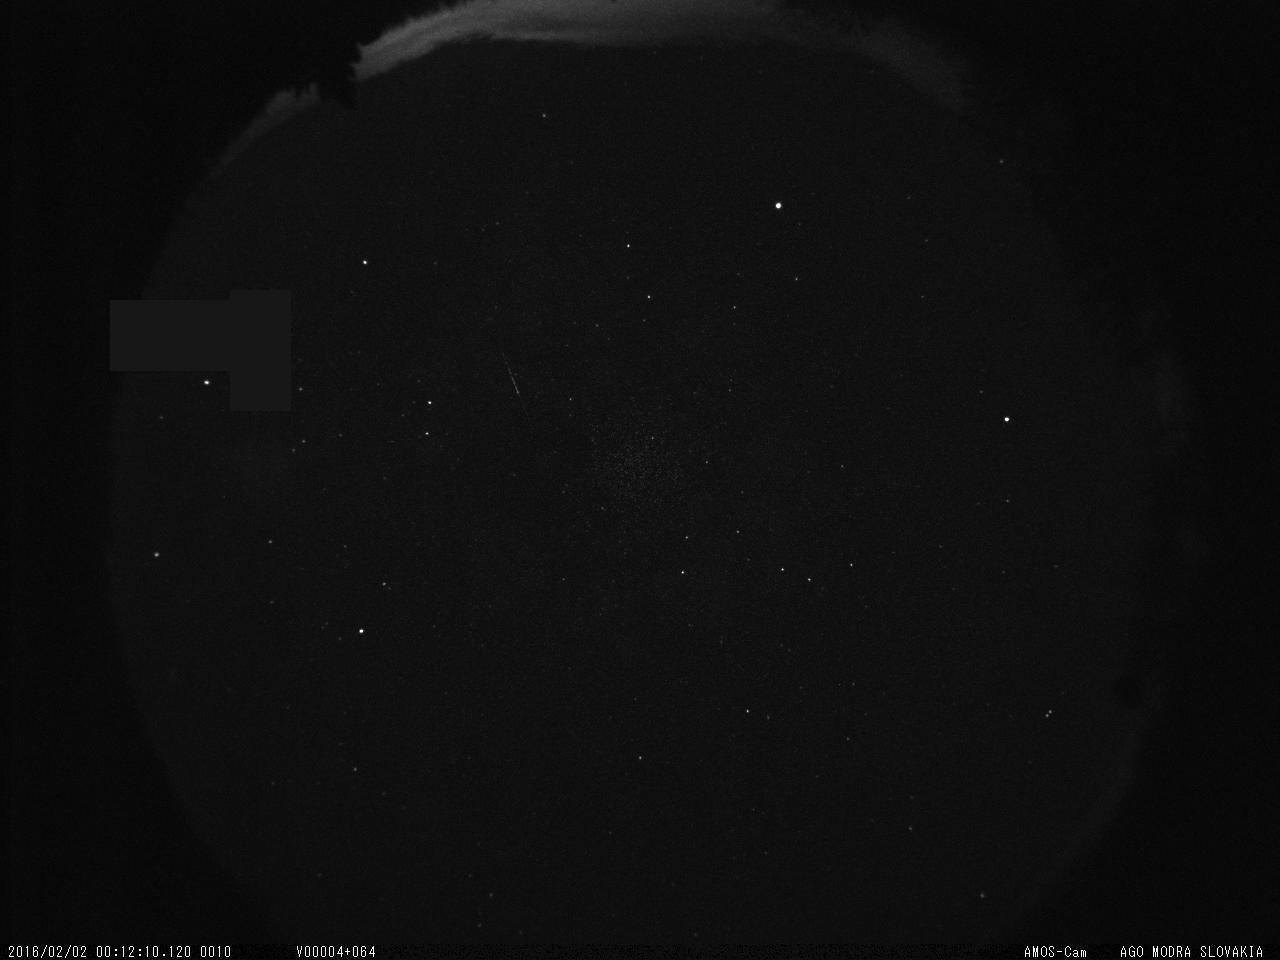meteor: (491, 338, 527, 408)
